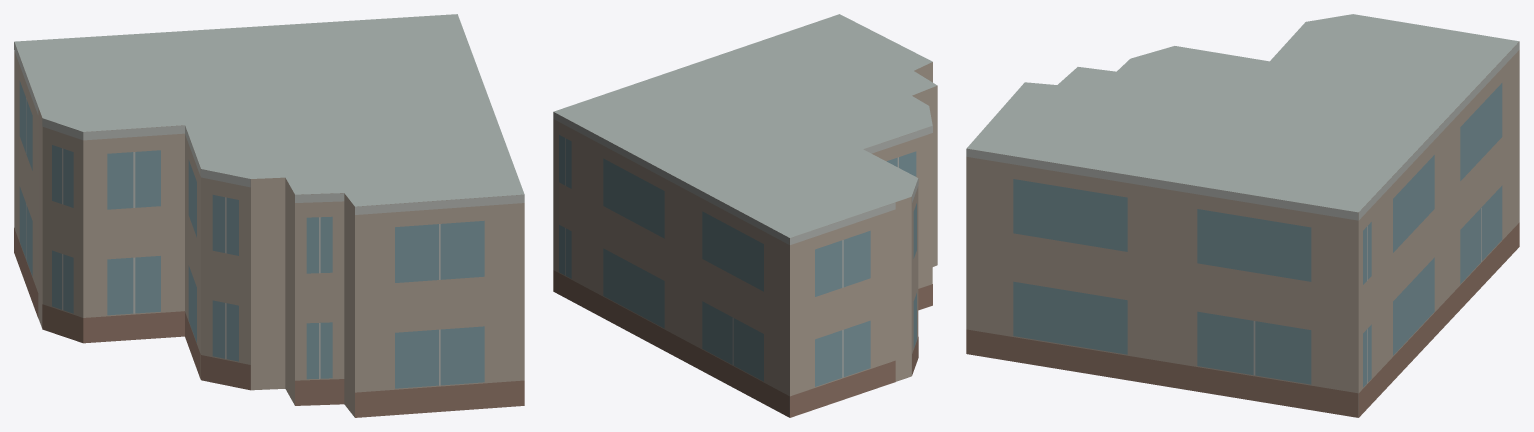
The model's file is survey-upis-32871305.glb.
3 views of the same model, side by side, from view 1: azimuth 30°, elevation 25°; view 2: azimuth 150°, elevation 25°; view 3: azimuth 270°, elevation 25° (orthographic). The views are drawn at different scales.
Parts seen in each view (by area): view 1: survey-upis-32871305.tmp; view 2: survey-upis-32871305.tmp; view 3: survey-upis-32871305.tmp.
Part boxes in pixels (<box>): survey-upis-32871305.tmp: <box>14,14,524,417</box>; survey-upis-32871305.tmp: <box>553,14,937,417</box>; survey-upis-32871305.tmp: <box>966,14,1519,417</box>.
Size of the model in its own units: 12.65 by 6.1 by 14.9.
